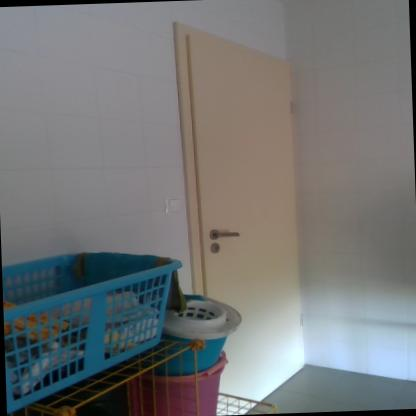closed: (170, 14, 310, 370)
